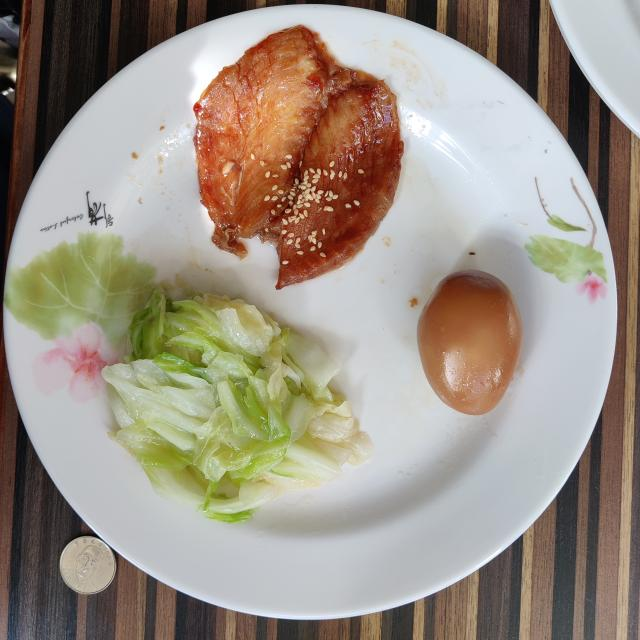Kabayaki sea bream fillet: (194, 26, 404, 289)
cabbage: (102, 290, 374, 522)
coin: (60, 536, 116, 595)
soy egg: (418, 270, 522, 415)
